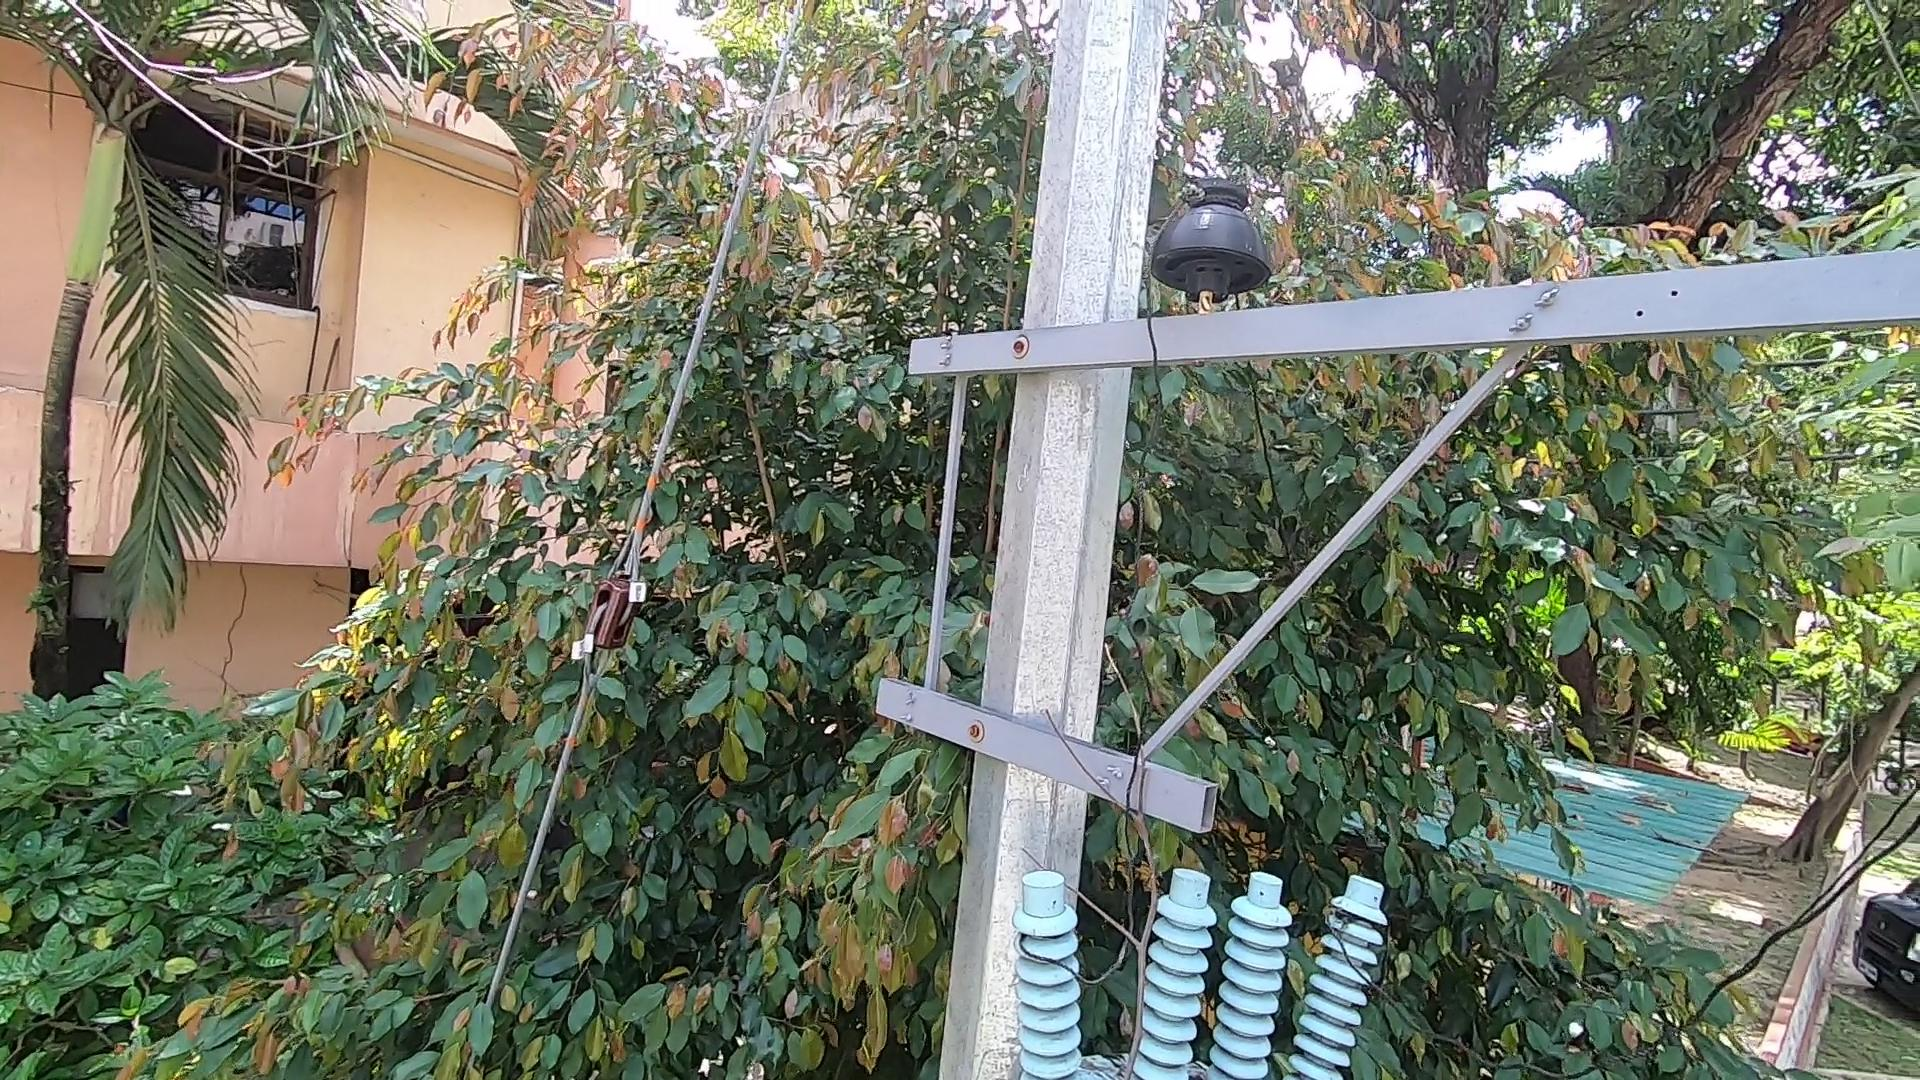tree branch: (1017, 596, 1182, 1080)
